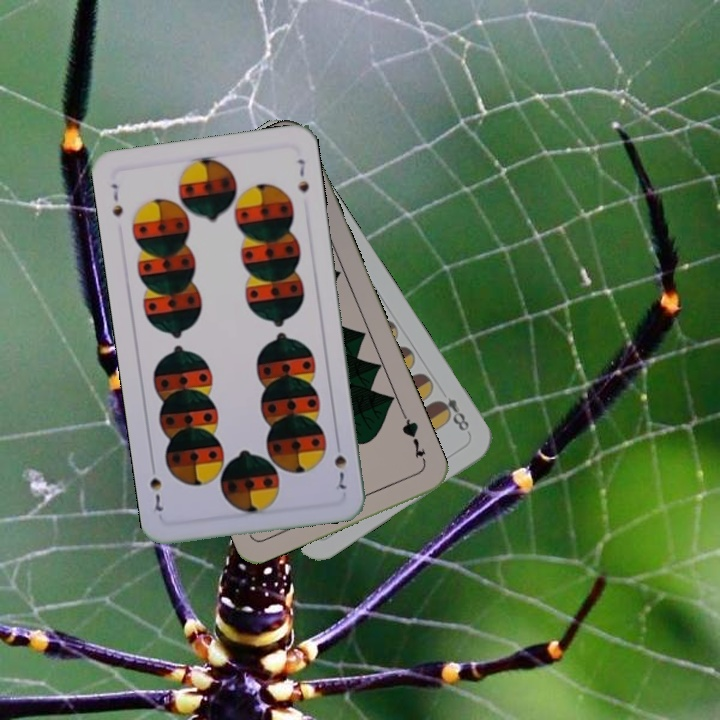E8: (432, 394, 473, 437)
G7: (398, 411, 429, 467)
S7: (330, 436, 349, 492), (106, 179, 126, 219)
